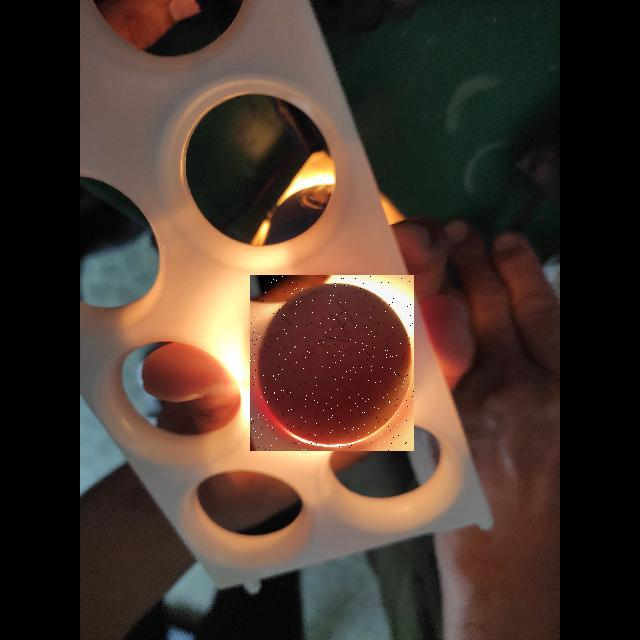Fertile: (250, 275, 414, 451)
